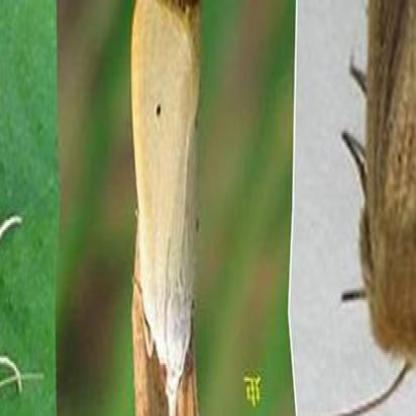stem-borer: (128, 0, 201, 416)
